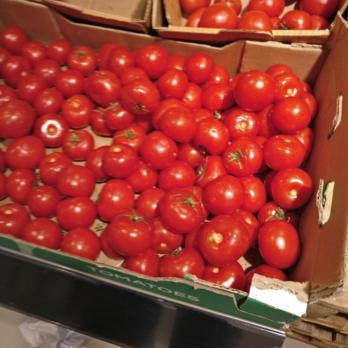Tomato: (0, 26, 177, 251), (172, 54, 317, 277)
